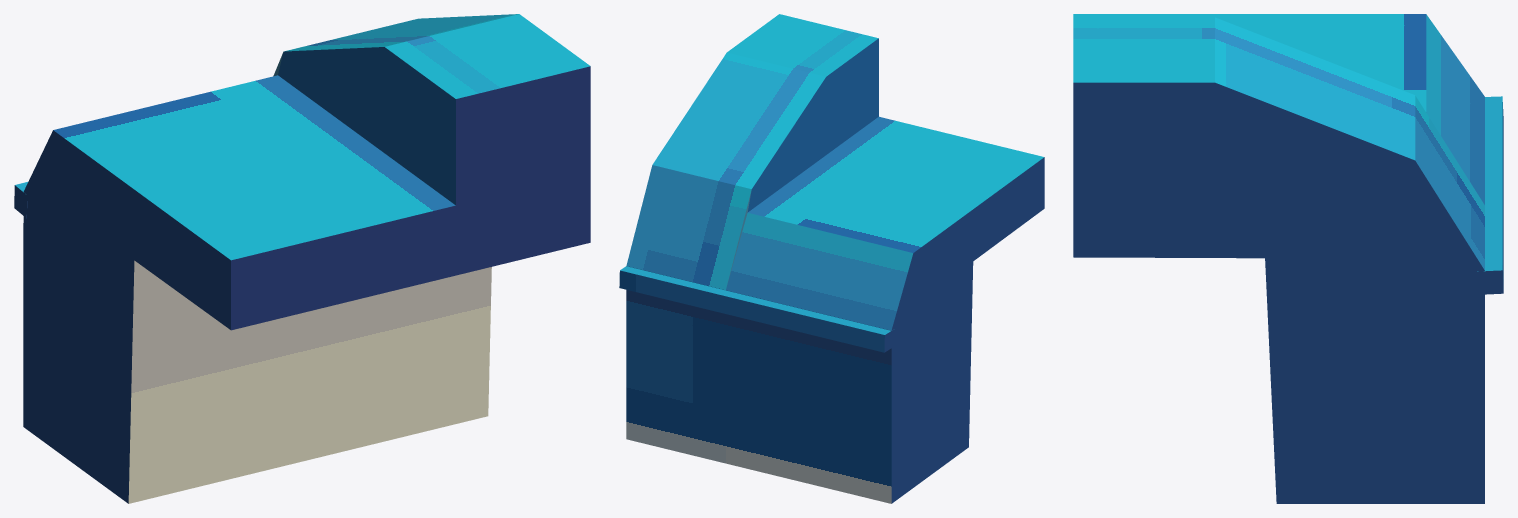
File: df5_carport_3.obj
The picture shows the model from 3 angles, left to right: view 1: azimuth 30°, elevation 25°; view 2: azimuth 150°, elevation 25°; view 3: azimuth 270°, elevation 25°; orthographic projection. The views are drawn at different scales.
Visible parts, largest first — view 1: cube_selection; view 2: cube_selection; view 3: cube_selection.
Part boxes in pixels (box(x1,y1,x2,y2)): cube_selection: box(14, 14, 590, 503); cube_selection: box(619, 14, 1044, 503); cube_selection: box(1073, 14, 1503, 503).
Size of the model in its own units: 1 by 1.13 by 1.05.
